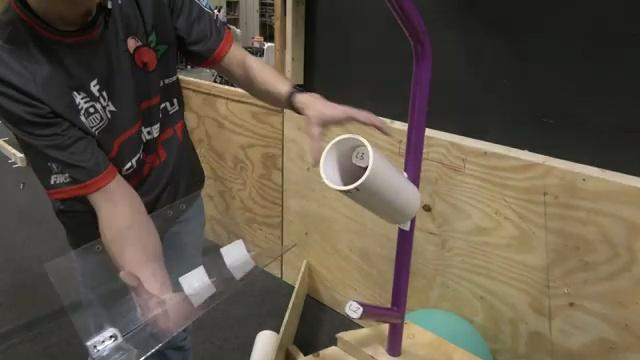CORAL: (318, 132, 421, 226)
